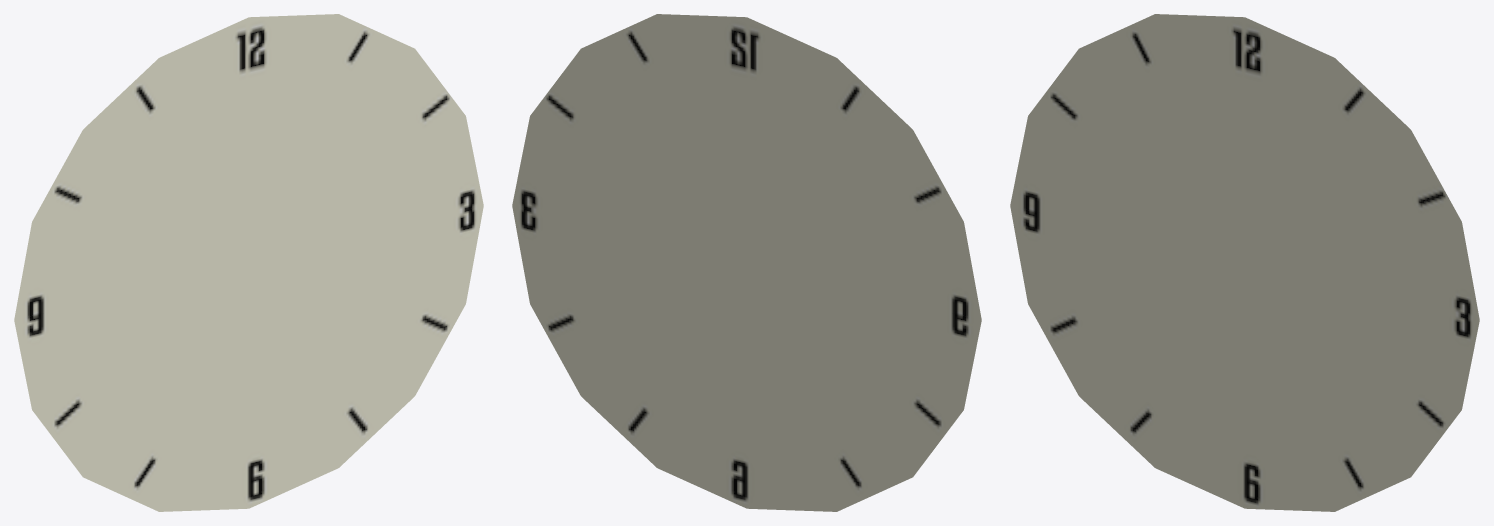
File: cylinder_2_lev1.glb
3 views of the same model, side by side, from view 1: azimuth 30°, elevation 25°; view 2: azimuth 150°, elevation 25°; view 3: azimuth 330°, elevation 25° (orthographic).
Parts seen in each view (by area): view 1: cylinder_2_lev1; view 2: cylinder_2_lev1; view 3: cylinder_2_lev1.
Part boxes in pixels (x1,y1,x2,y2): cylinder_2_lev1: [14, 14, 483, 511]; cylinder_2_lev1: [512, 14, 981, 511]; cylinder_2_lev1: [1010, 14, 1479, 511].
Bounding box in the file's own units: 0.9409 × 0.9409 × 0.
Materials: 1 (1 with a texture image).
